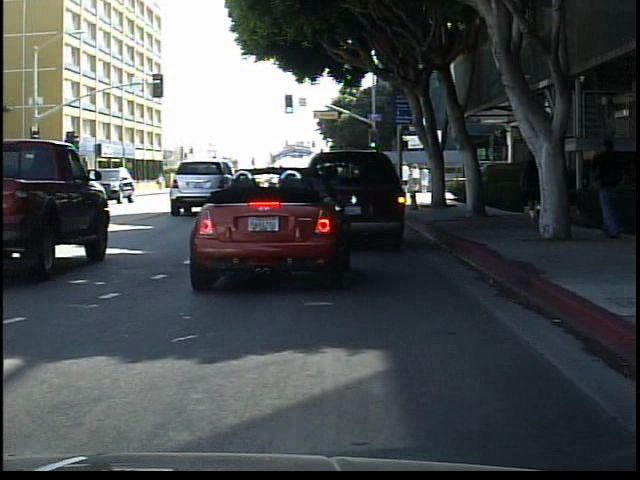person: (587, 132, 631, 239), (516, 147, 544, 228), (155, 170, 169, 195)
